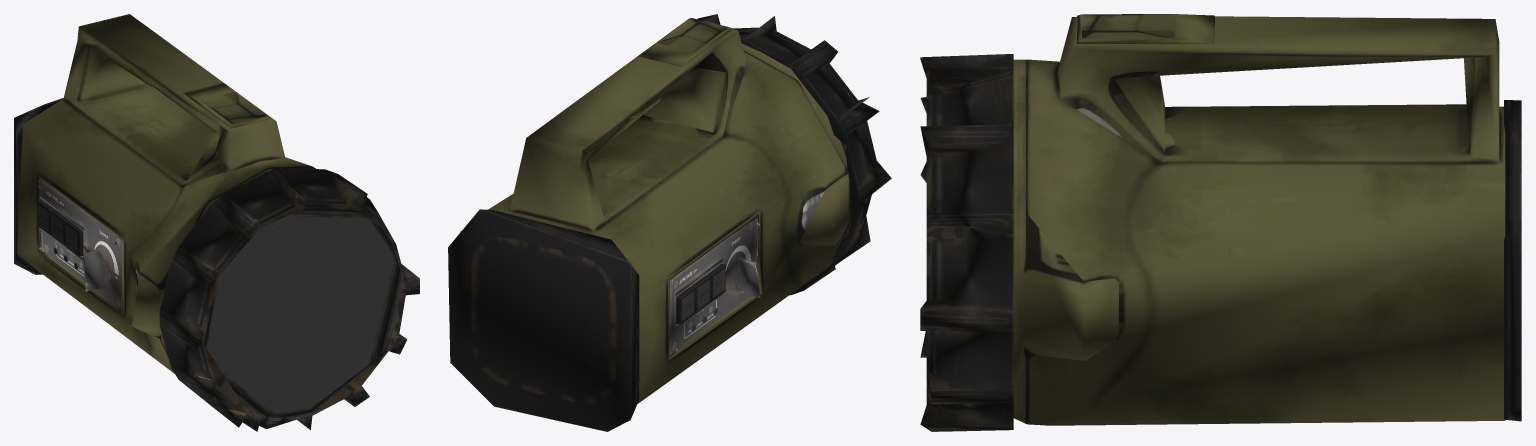
Rendered from portable_searchlight.glb.
3 renders of one model, left to right at view 1: azimuth 30°, elevation 25°; view 2: azimuth 150°, elevation 25°; view 3: azimuth 270°, elevation 25°, orthographic. The views are drawn at different scales.
Parts seen in each view (by area): view 1: portable_searchlight; view 2: portable_searchlight; view 3: portable_searchlight.
Boxes of the visible parts, bbox=[...] form: portable_searchlight: bbox=[14, 14, 419, 431]; portable_searchlight: bbox=[448, 14, 891, 431]; portable_searchlight: bbox=[920, 14, 1521, 431].
Size of the model in its own units: 0.1612 by 0.1794 by 0.2521.
2 materials, 2 textured.
